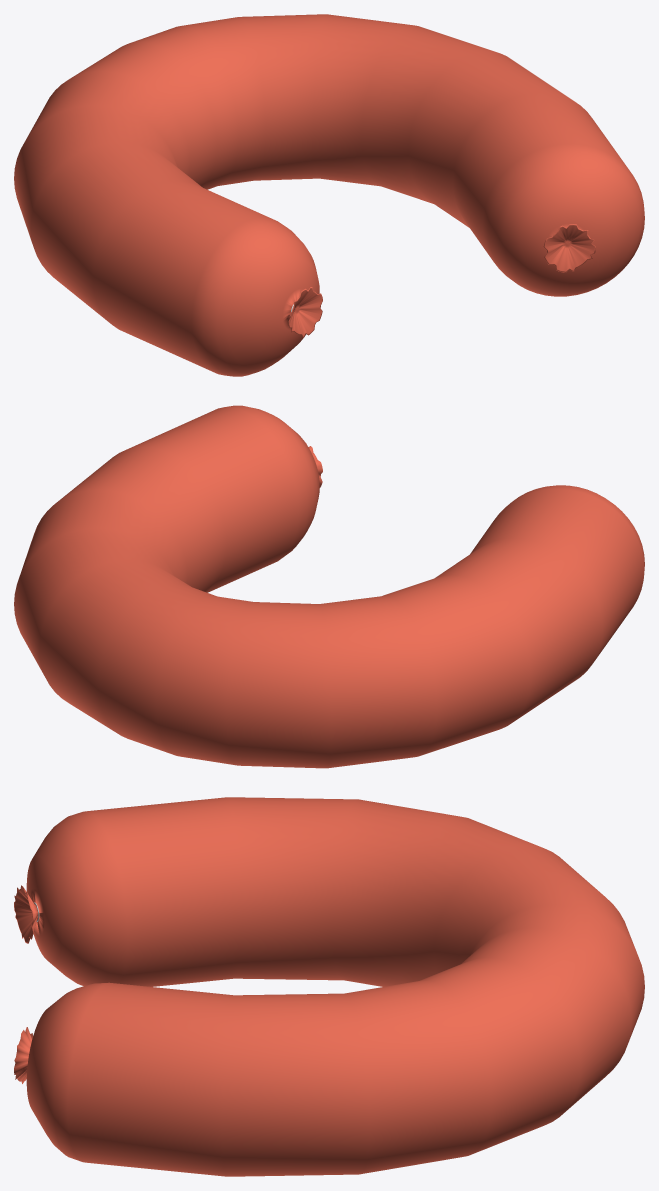
Rendered from Korv.fbx.
3 renders of one model, top to bottom at view 1: azimuth 30°, elevation 25°; view 2: azimuth 150°, elevation 25°; view 3: azimuth 270°, elevation 25°, orthographic. The views are drawn at different scales.
Parts seen in each view (by area): view 1: FaluKorv; view 2: FaluKorv; view 3: FaluKorv.
Boxes of the visible parts, bbox=[...] form: FaluKorv: bbox=[14, 14, 644, 376]; FaluKorv: bbox=[14, 405, 644, 768]; FaluKorv: bbox=[14, 797, 644, 1176].
Size of the model in its own units: 38.6 by 10.8 by 37.5.
